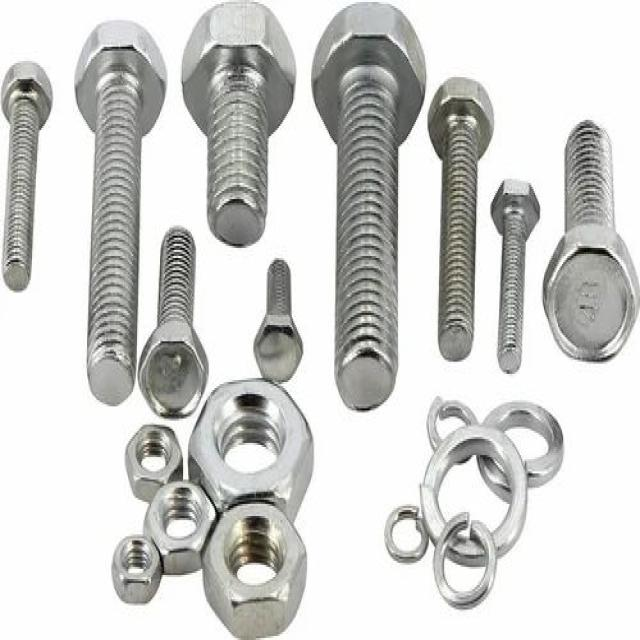Bolt: (309, 0, 429, 416), (72, 21, 167, 407), (178, 2, 296, 248), (545, 116, 640, 364), (428, 77, 497, 364), (138, 227, 210, 422), (0, 61, 56, 294), (491, 180, 543, 373), (253, 260, 307, 388)
Nut: (188, 375, 318, 525), (201, 499, 310, 639), (145, 482, 220, 578), (125, 422, 183, 500), (112, 534, 162, 604)
